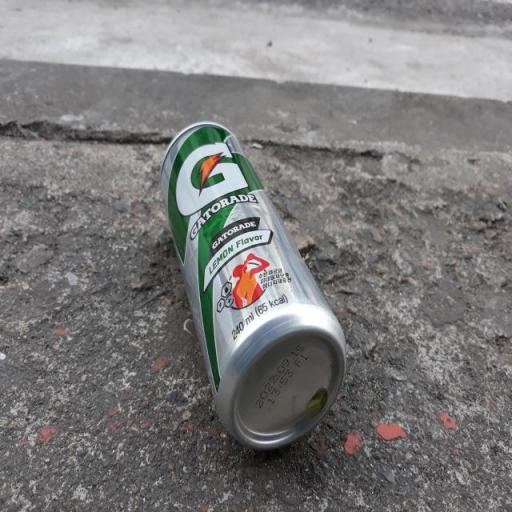metal: (119, 81, 374, 503)
